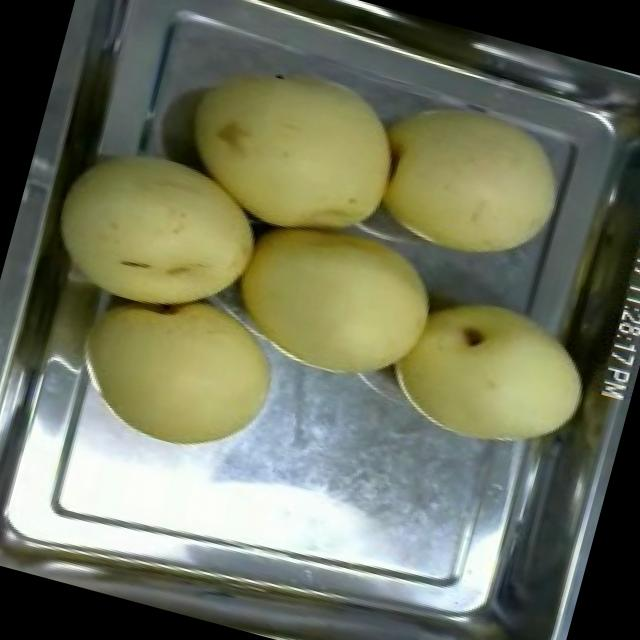Fruit: (160, 35, 426, 268), (31, 116, 285, 342), (212, 191, 456, 405), (61, 262, 303, 476), (353, 76, 585, 286), (375, 271, 610, 474)
